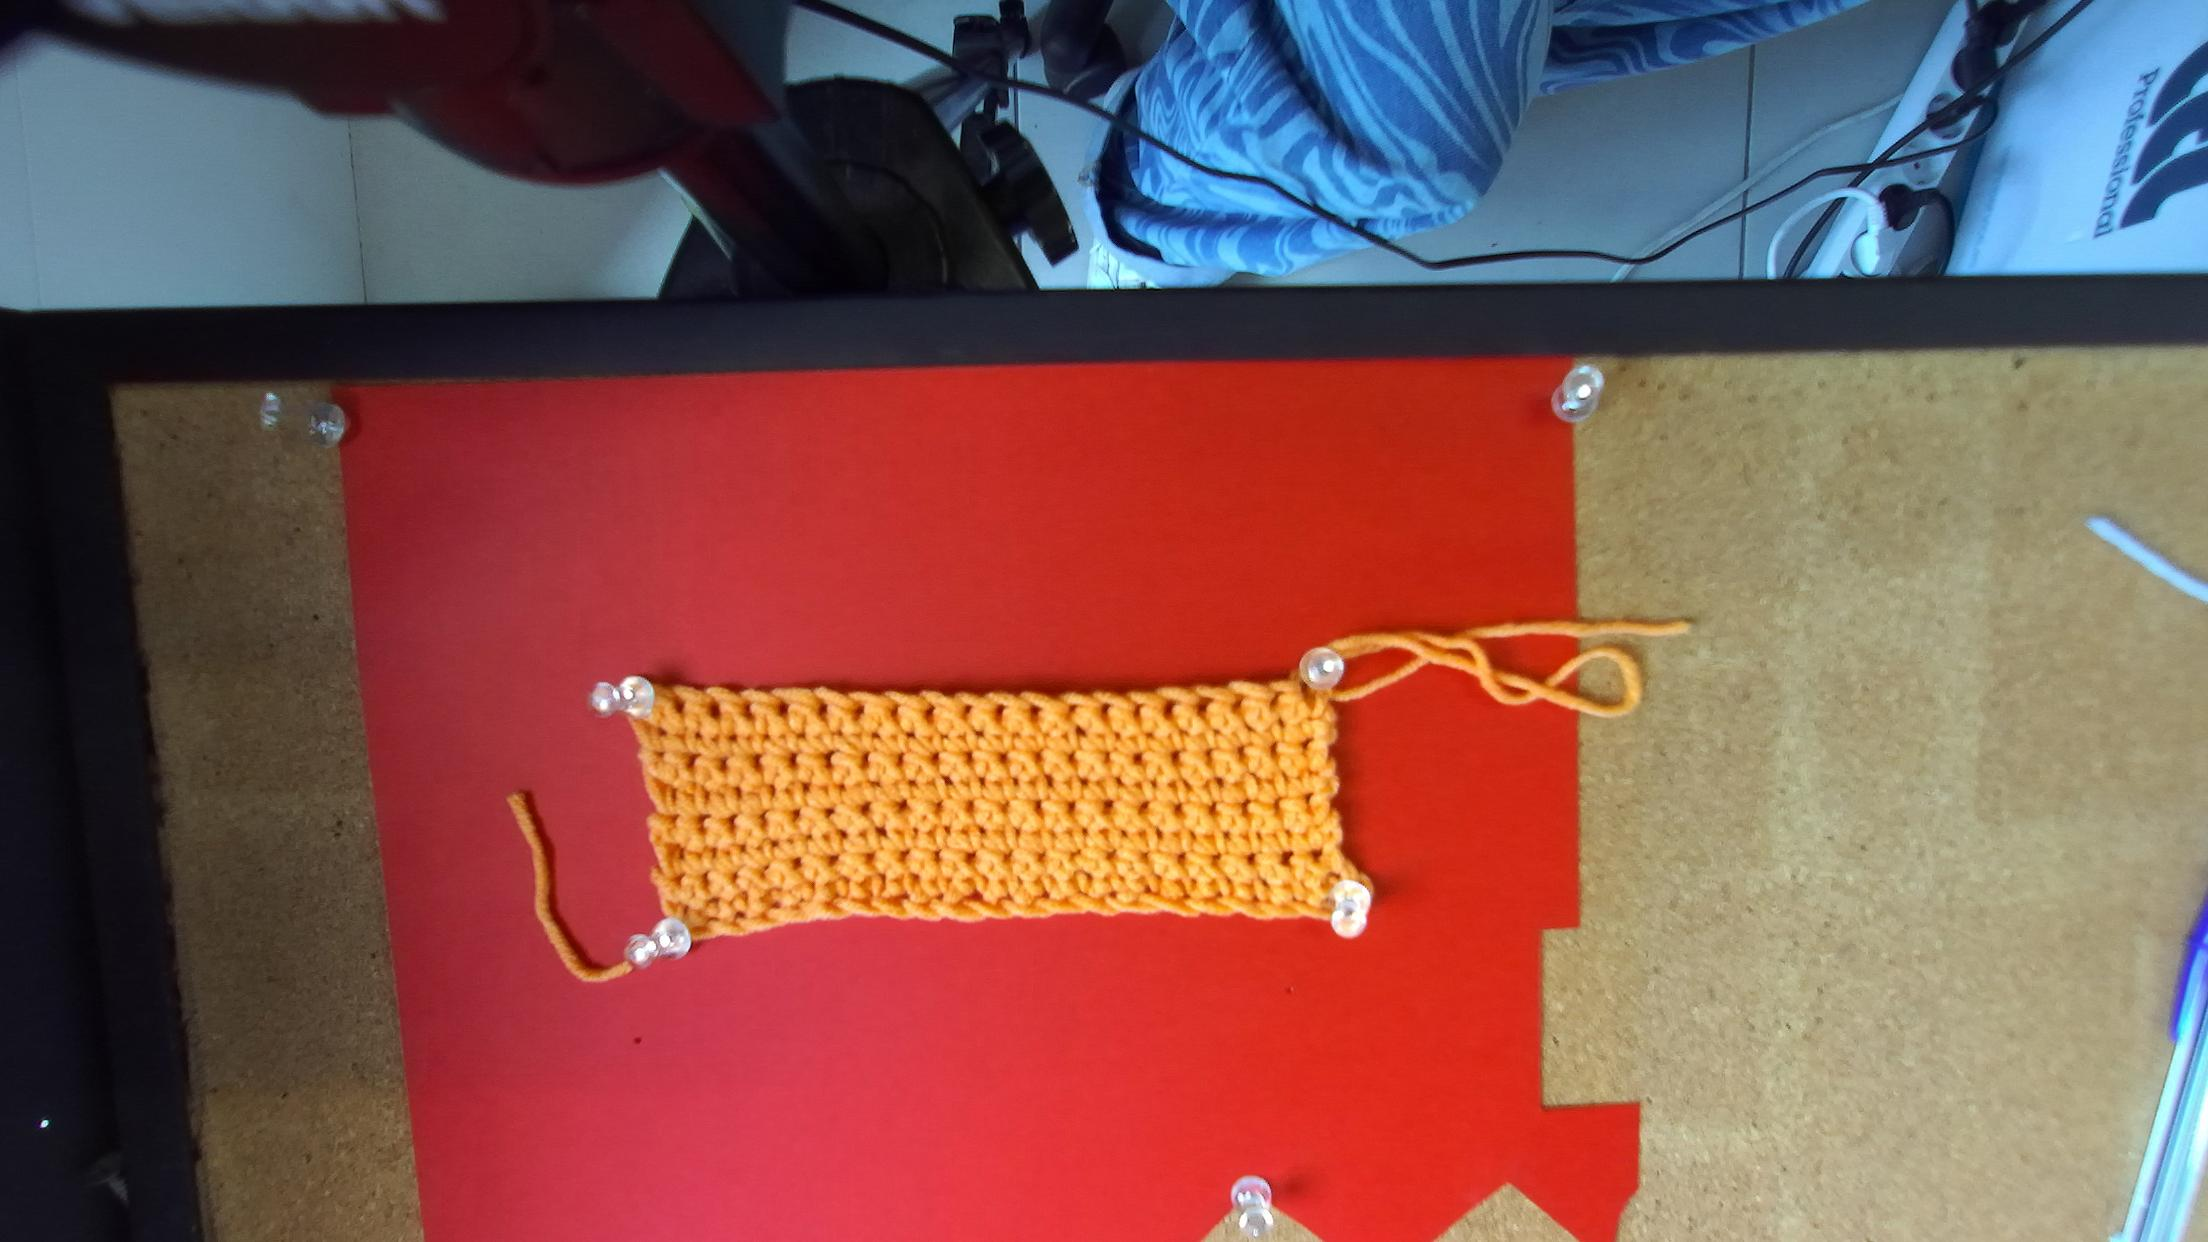hole: (1270, 690, 1283, 711), (1162, 699, 1176, 718), (1197, 697, 1210, 717), (672, 696, 687, 713), (709, 700, 720, 721), (1232, 695, 1244, 713), (777, 698, 787, 718), (1029, 705, 1042, 720), (743, 699, 752, 719), (852, 703, 863, 719), (818, 700, 827, 719), (995, 705, 1005, 721), (1101, 704, 1113, 717), (924, 705, 935, 719), (1067, 703, 1079, 715), (1134, 704, 1144, 718), (888, 705, 898, 718), (962, 705, 971, 718), (1301, 686, 1311, 697)
swatch: (596, 677, 1376, 959)
